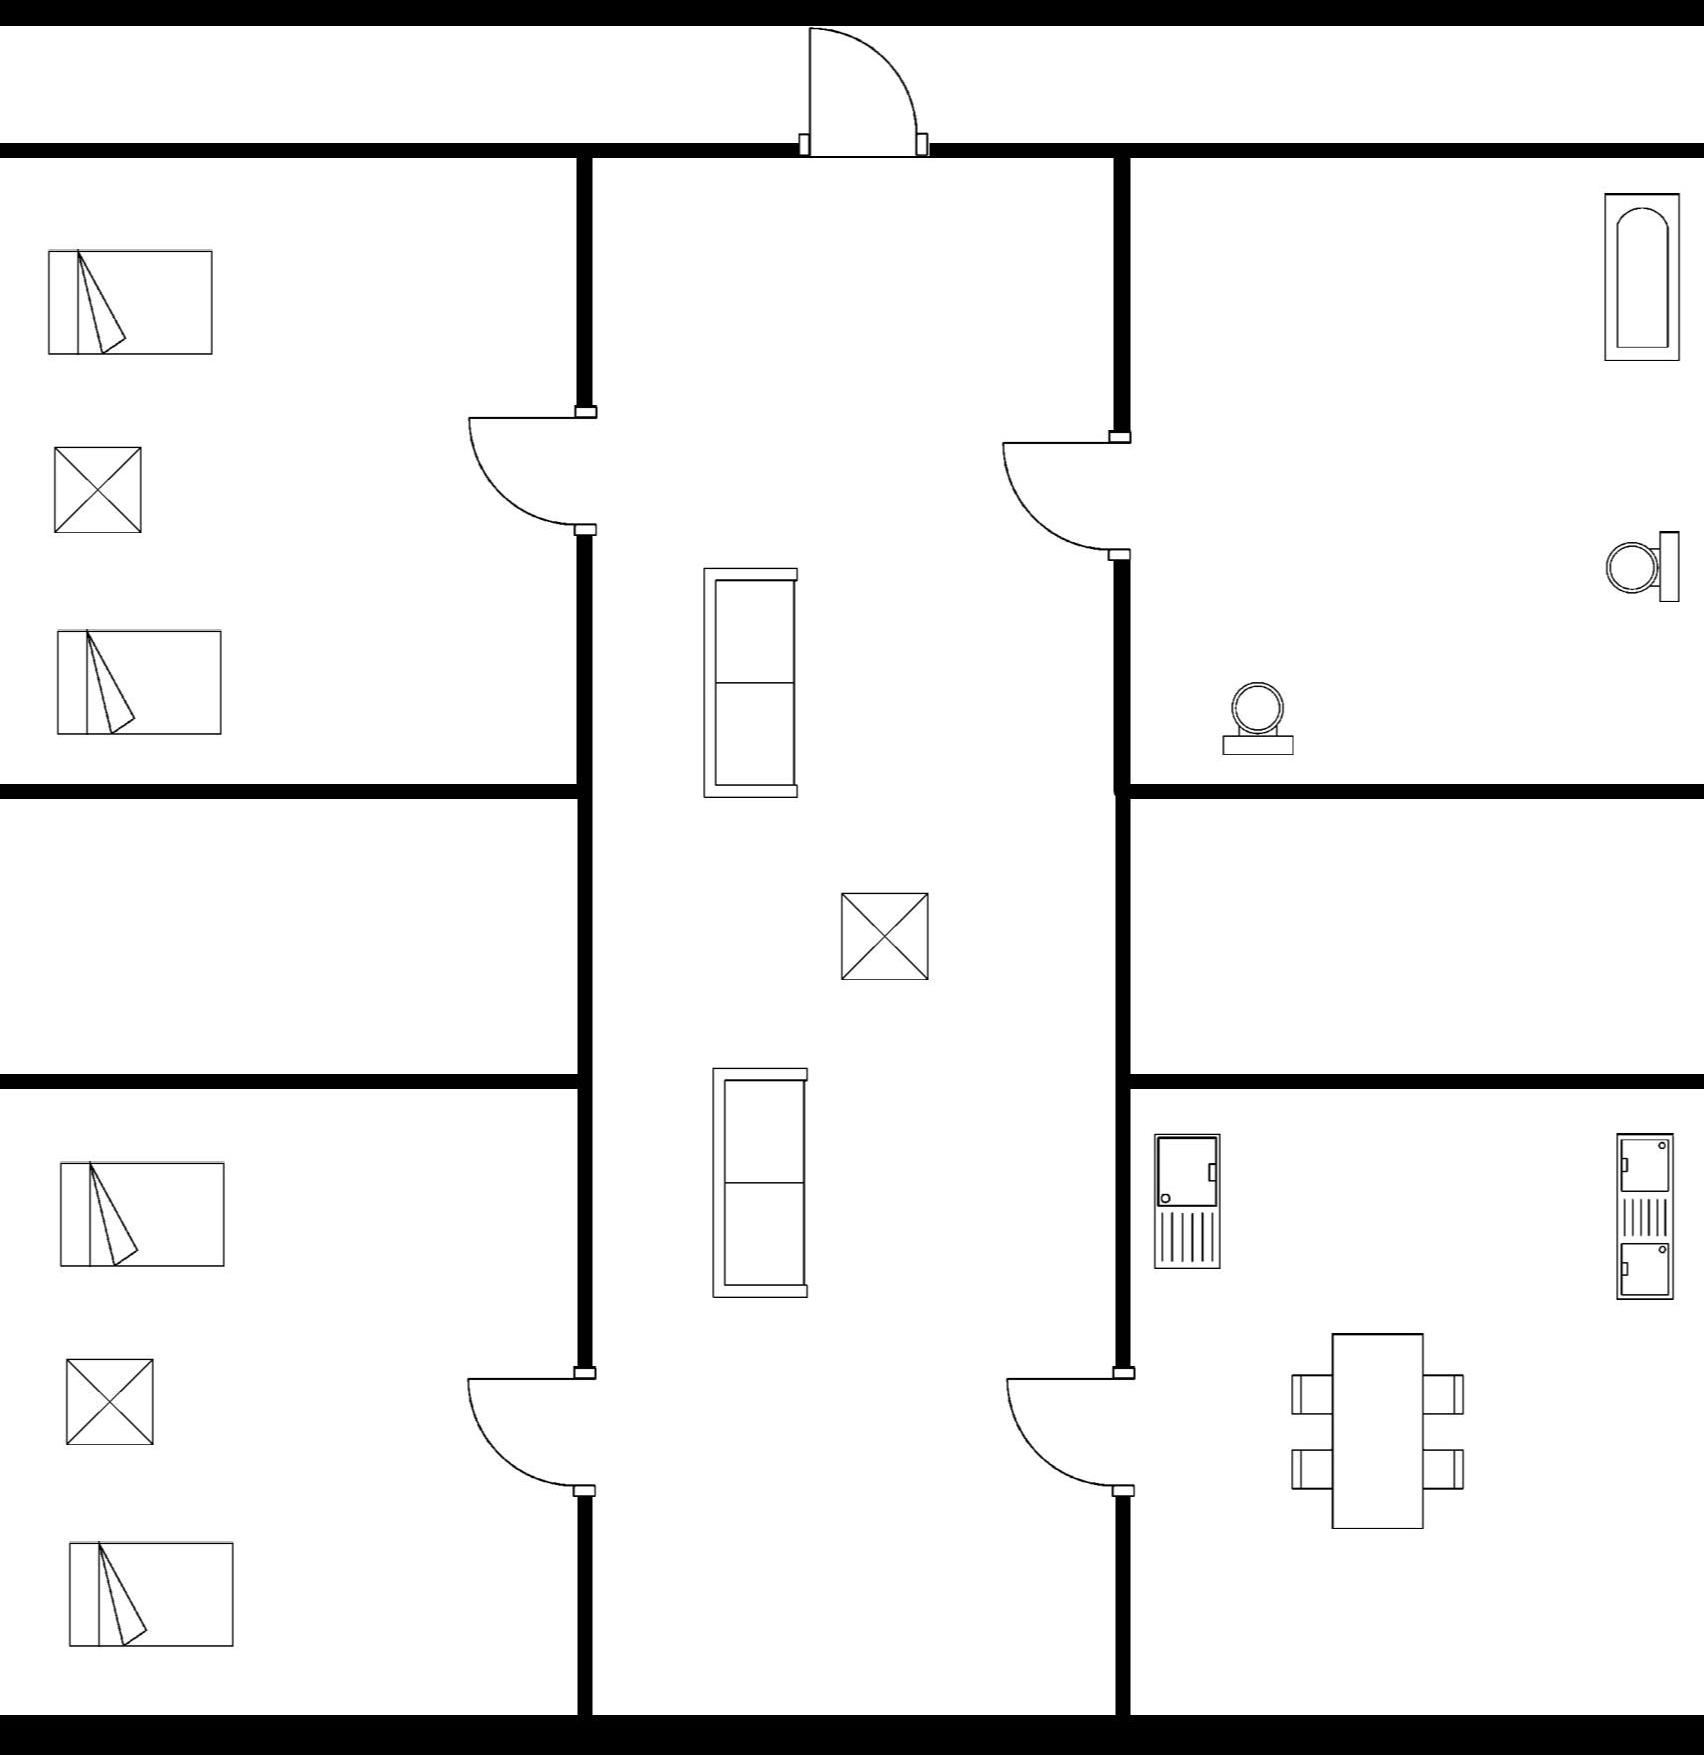sink: (1604, 1122, 1682, 1310)
